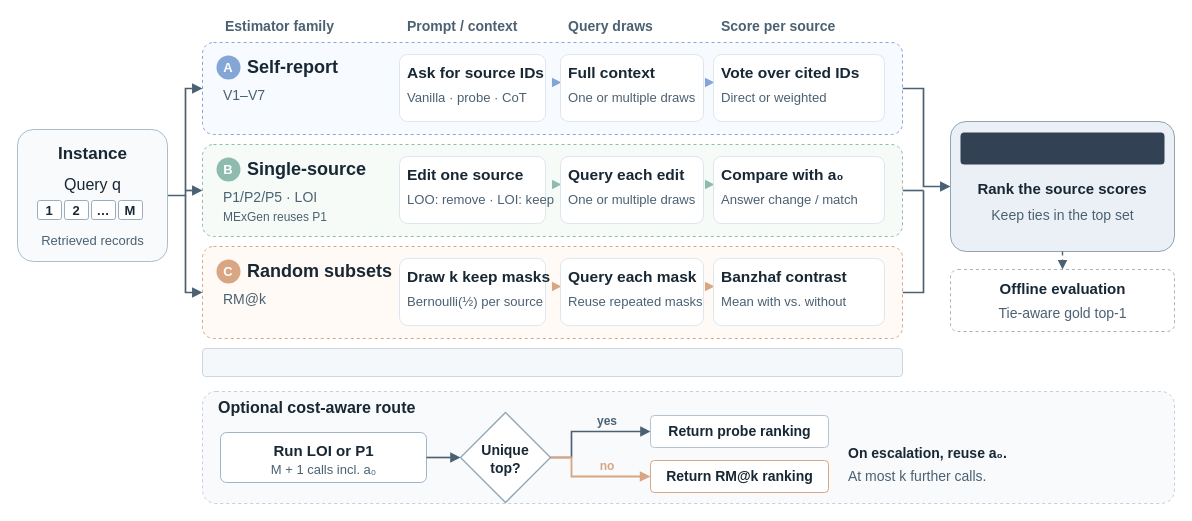
Image size: 1192x521. Some labels were removed from this diagram. Each missing label, with the box of its shape:
Attribution ranking: (960, 132, 1164, 164)
Shared by B and C: one full-context reference a₀. Invalid reference → stop.: (202, 348, 902, 376)
